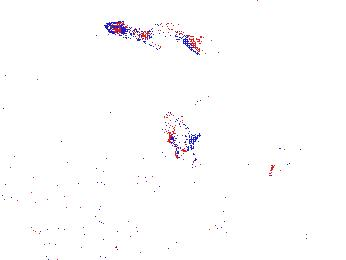redtail glassfish: (104, 18, 209, 59), (266, 142, 310, 189), (160, 111, 199, 160)
